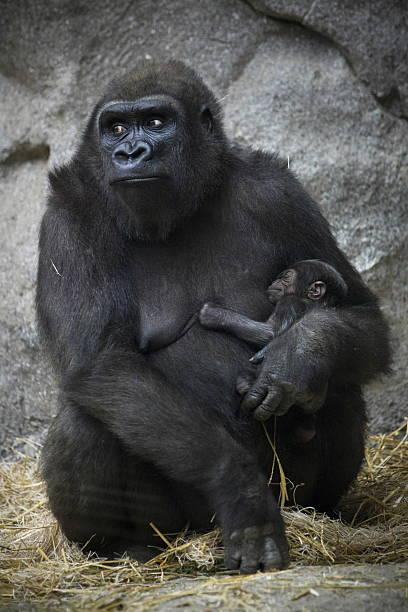gorille_Autres: (27, 50, 399, 580)
